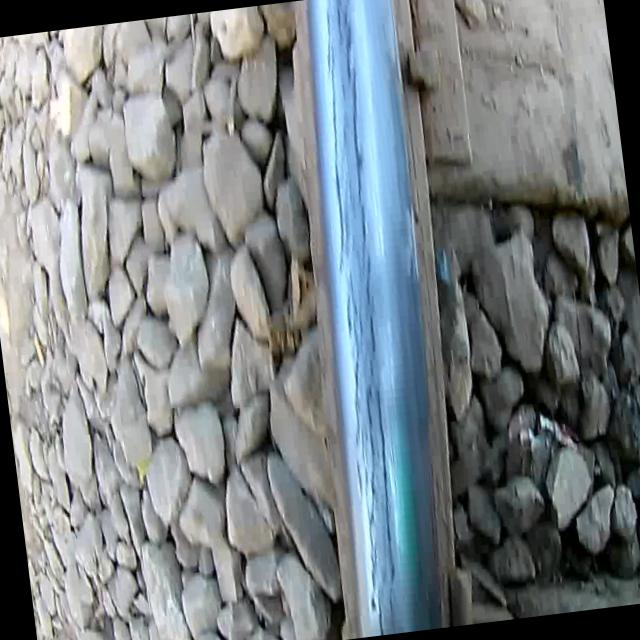Cracks: (293, 0, 430, 636)
